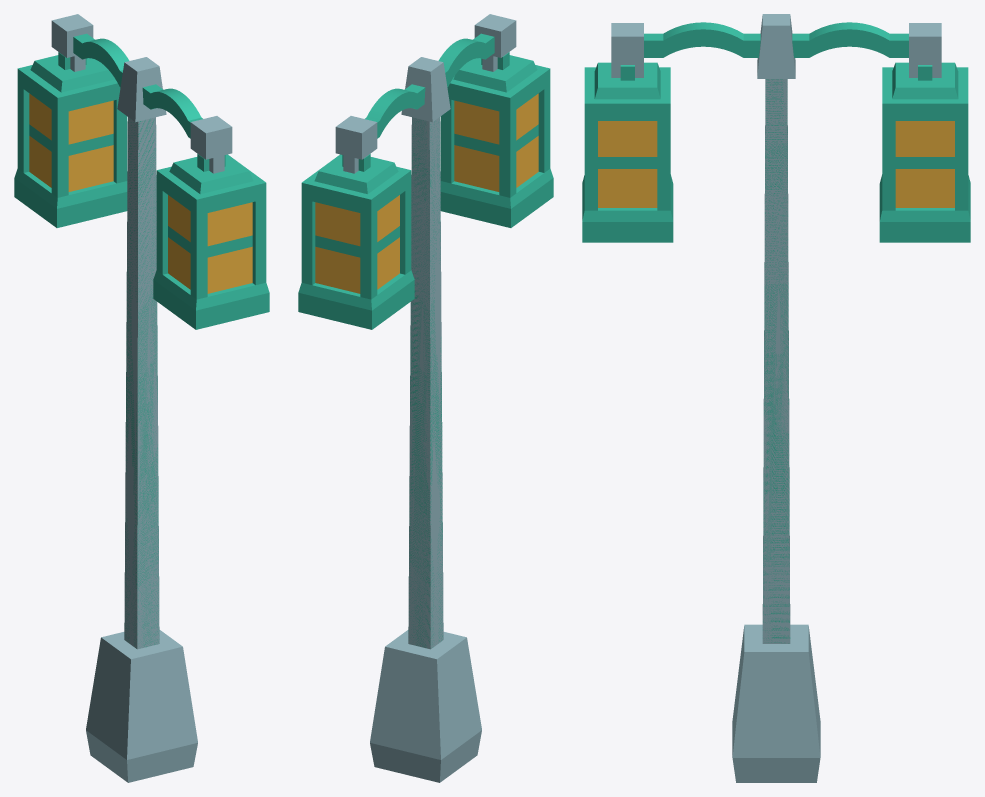
Rendered from lightpostDouble.obj.
The picture shows the model from 3 angles, left to right: view 1: azimuth 30°, elevation 25°; view 2: azimuth 150°, elevation 25°; view 3: azimuth 270°, elevation 25°; orthographic projection. The views are drawn at different scales.
Parts seen in each view (by area): view 1: lightpostDouble; view 2: lightpostDouble; view 3: lightpostDouble.
Part boxes in pixels (bbox=[...]): lightpostDouble: bbox=[14, 14, 269, 782]; lightpostDouble: bbox=[298, 14, 553, 782]; lightpostDouble: bbox=[582, 14, 970, 782].
Bounding box in the file's own units: 0.1459 × 1.32 × 0.6225.
